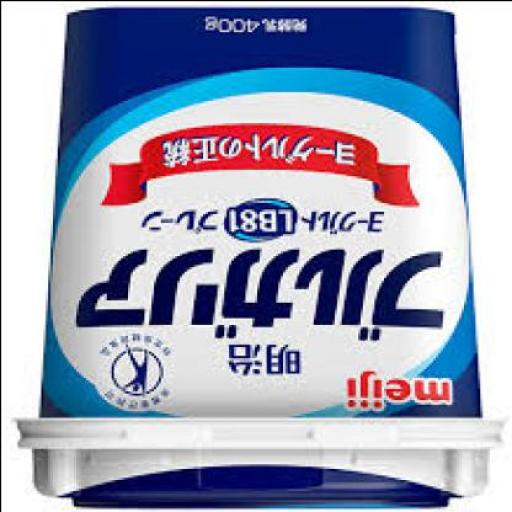plastic: (16, 7, 508, 510)
